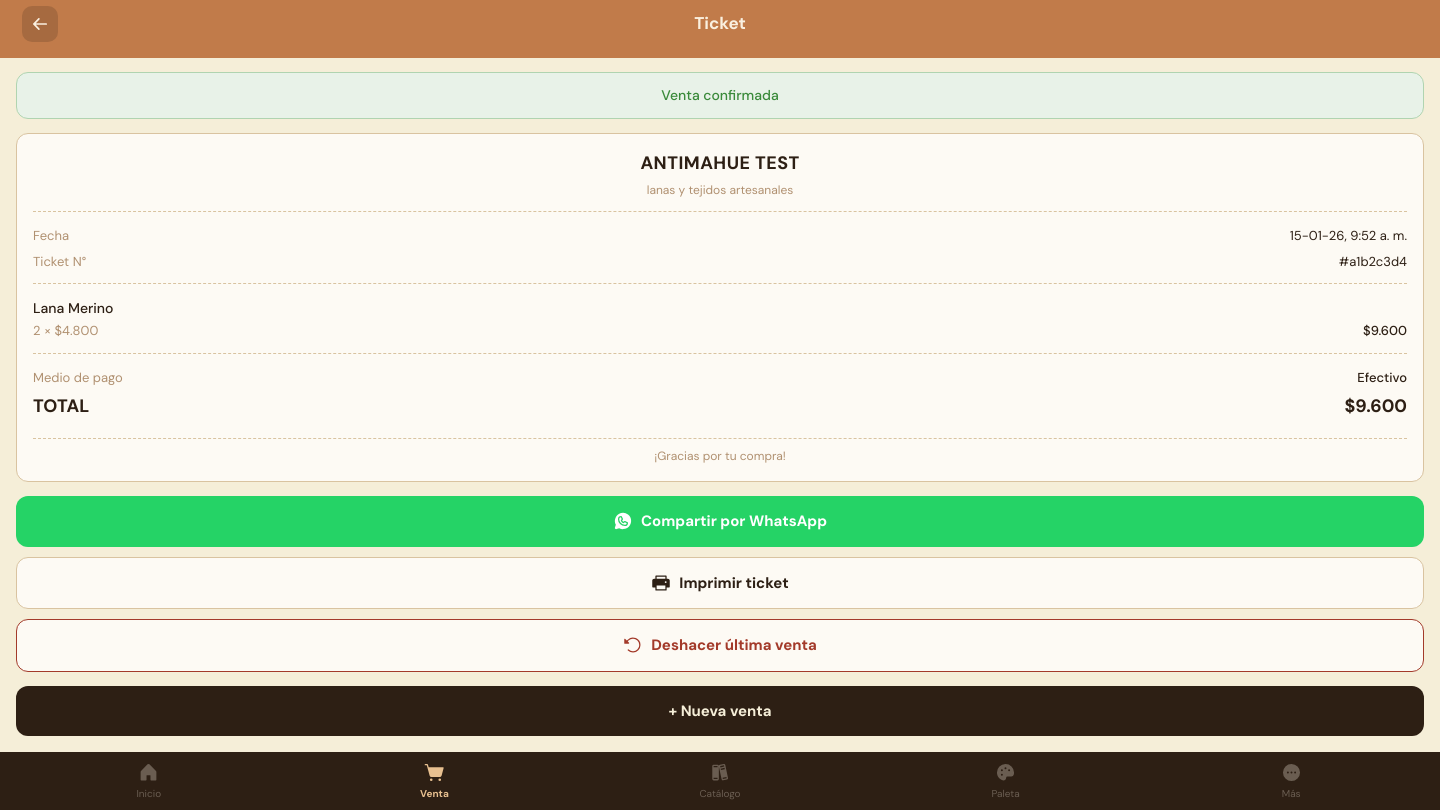
Test: TicketView › undo › should_show_deshecha_banner_and_hide_actions_after_undo
The width and height of the screenshot is (1440, 810).
Step 1. Click the button "Deshacer última venta" → click(720, 645), box [16,619,1424,672]
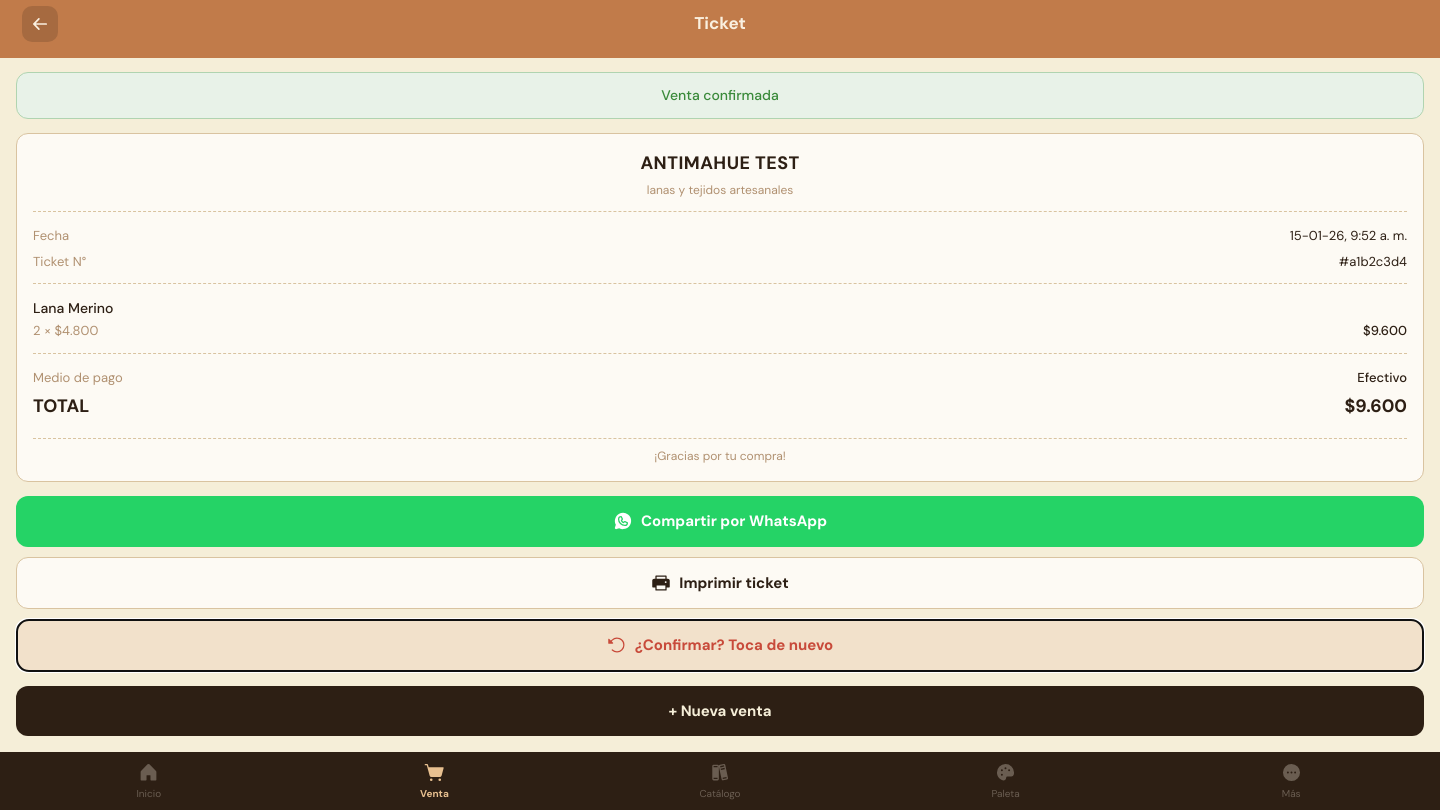
Step 2. Click the button named "Deshacer última venta" → click(720, 645), box [16,619,1424,672]
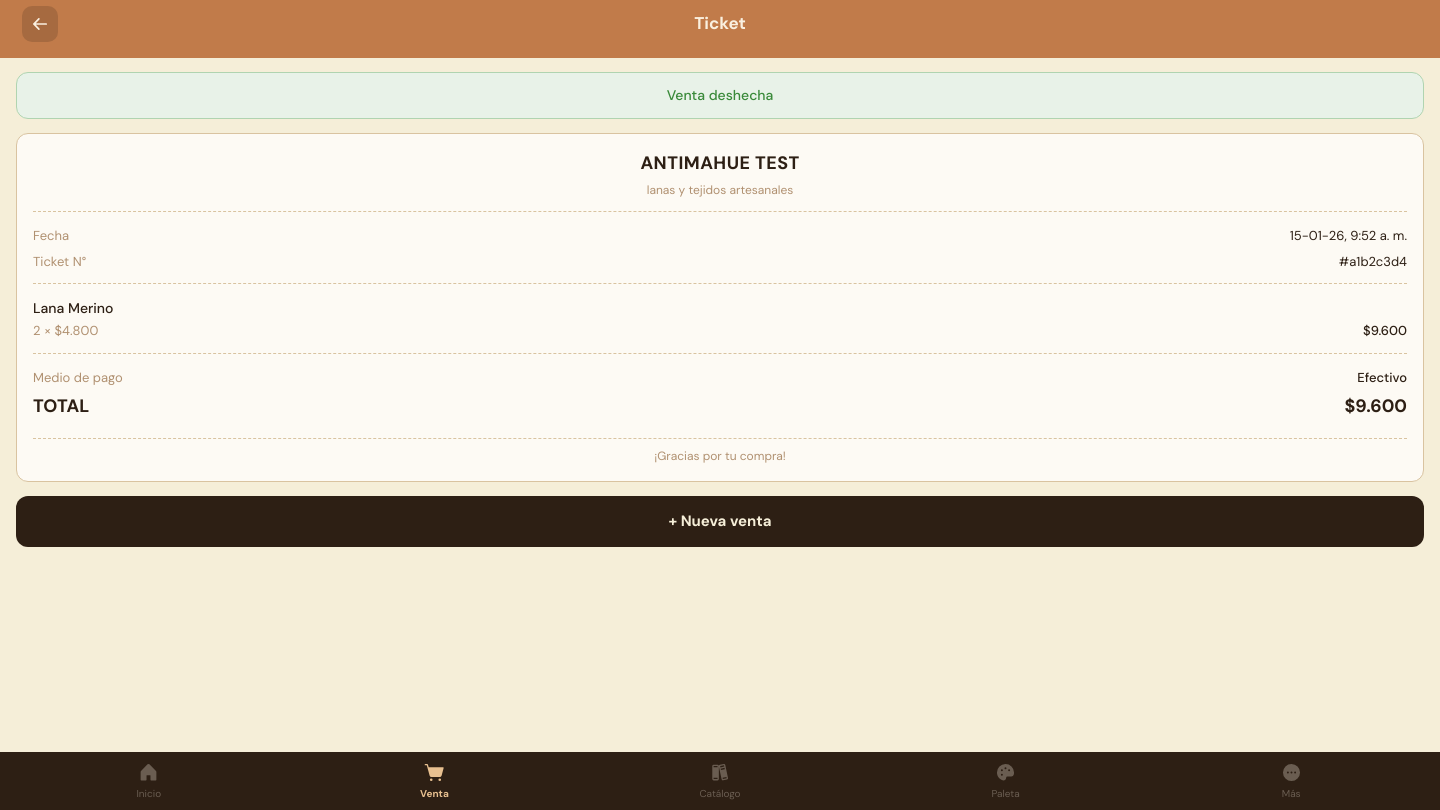
Check: the text "Venta deshecha" is shown, box [16,72,1424,119]
Check: the button "WhatsApp" is gone
Check: the button "Imprimir" is gone
